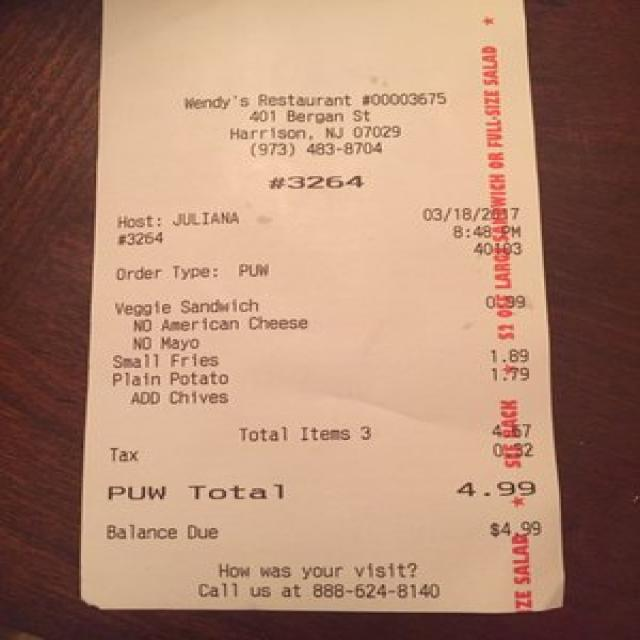TotalPrice: (107, 473, 552, 505)
